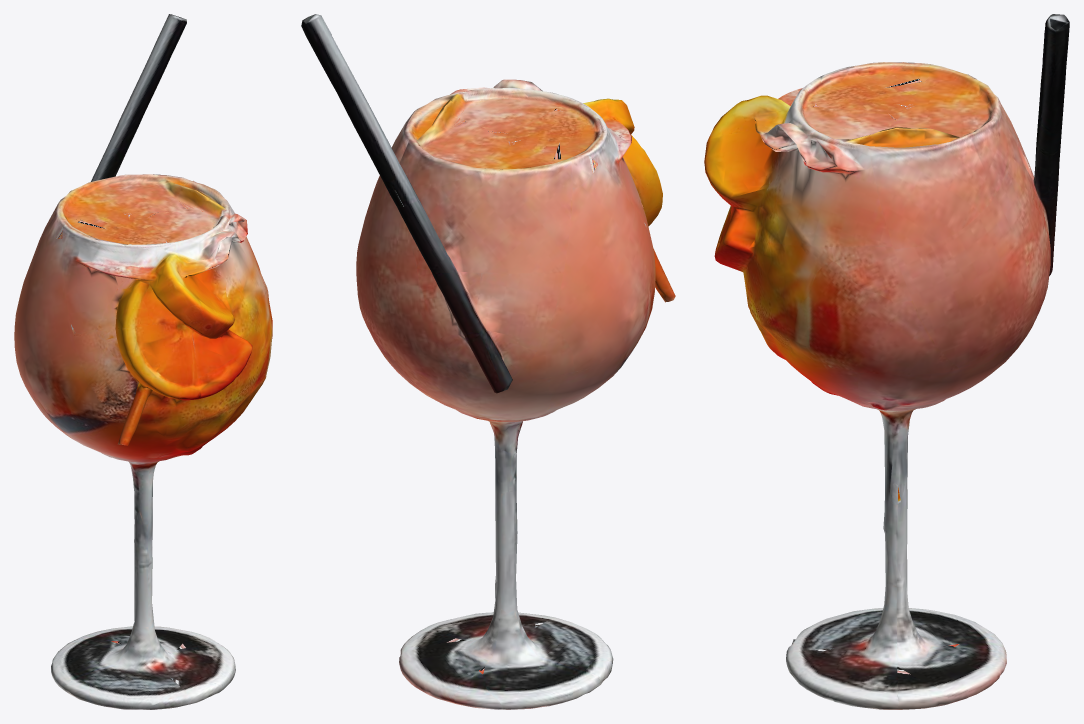
File: spritz.glb
3 views of the same model, side by side, from view 1: azimuth 30°, elevation 25°; view 2: azimuth 150°, elevation 25°; view 3: azimuth 270°, elevation 25° (orthographic). The views are drawn at different scales.
Visible parts, largest first — view 1: prop; view 2: prop; view 3: prop.
Part boxes in pixels (x1,y1,x2,y2): prop: (14, 14, 272, 709); prop: (301, 14, 675, 709); prop: (704, 14, 1069, 709).
Bounding box in the file's own units: 0.4042 × 1 × 0.4686.
Materials: 1 (1 with a texture image).
